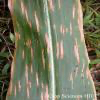Corn Gray leaf spot: (5, 1, 97, 99)
